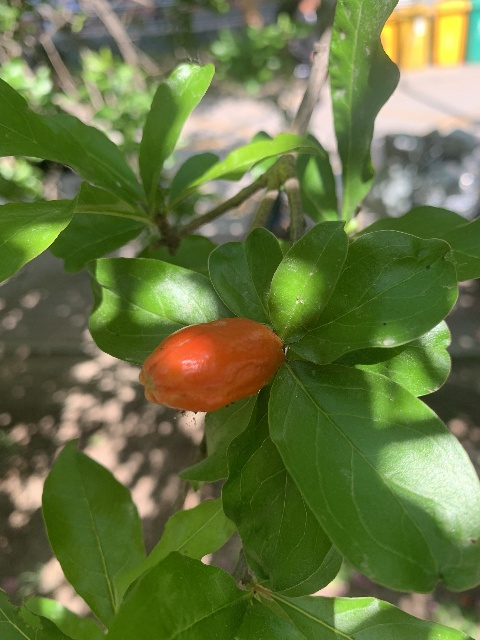bud: (140, 317, 283, 412)
